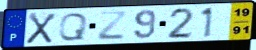1: (199, 6, 214, 38)
2: (167, 7, 197, 39)
9: (132, 9, 158, 41)
Q: (57, 12, 90, 42)
X: (24, 12, 58, 45)
Z: (96, 11, 129, 42)
